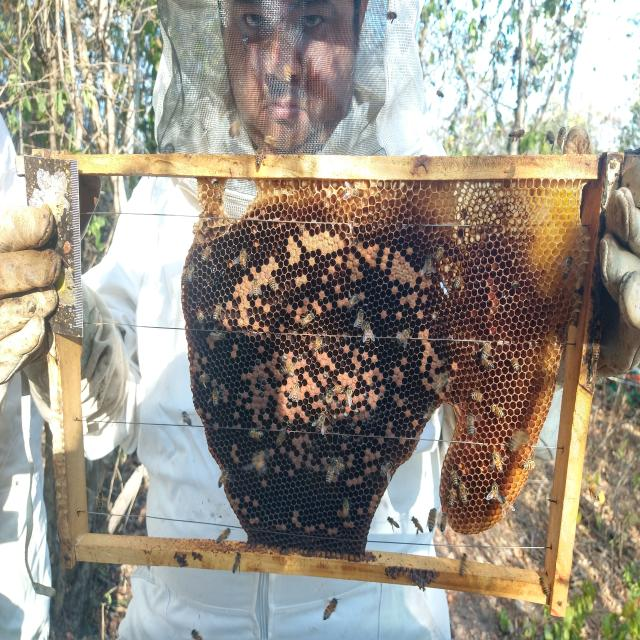cria: (186, 230, 459, 554)
marco: (63, 174, 597, 575)
